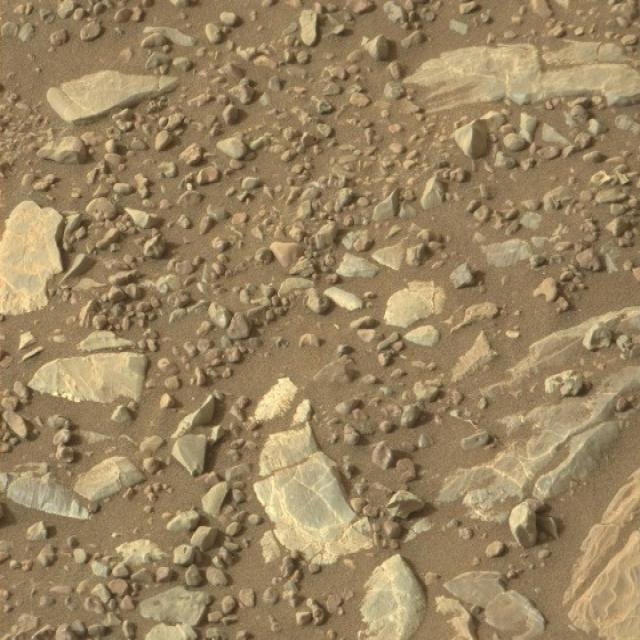mars-rocks: (254, 452, 374, 566), (0, 201, 62, 314), (46, 70, 177, 122), (172, 435, 207, 477), (455, 119, 490, 158), (510, 502, 538, 549)
